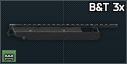MP5 B&T tri-rail receiver mount: (0, 0, 127, 64)
